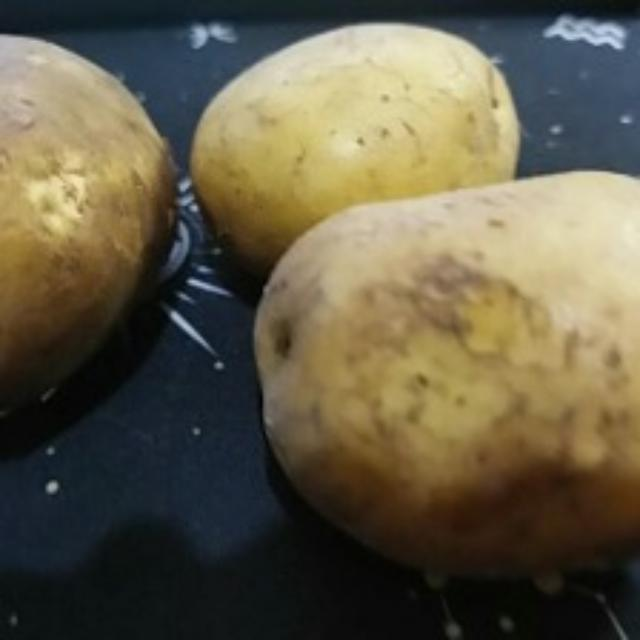Damaged potato: (248, 176, 640, 604), (0, 32, 172, 480)
Potato: (184, 25, 520, 288)
